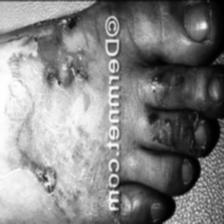Toxin: (5, 24, 92, 184), (150, 58, 200, 110), (148, 113, 198, 149)
